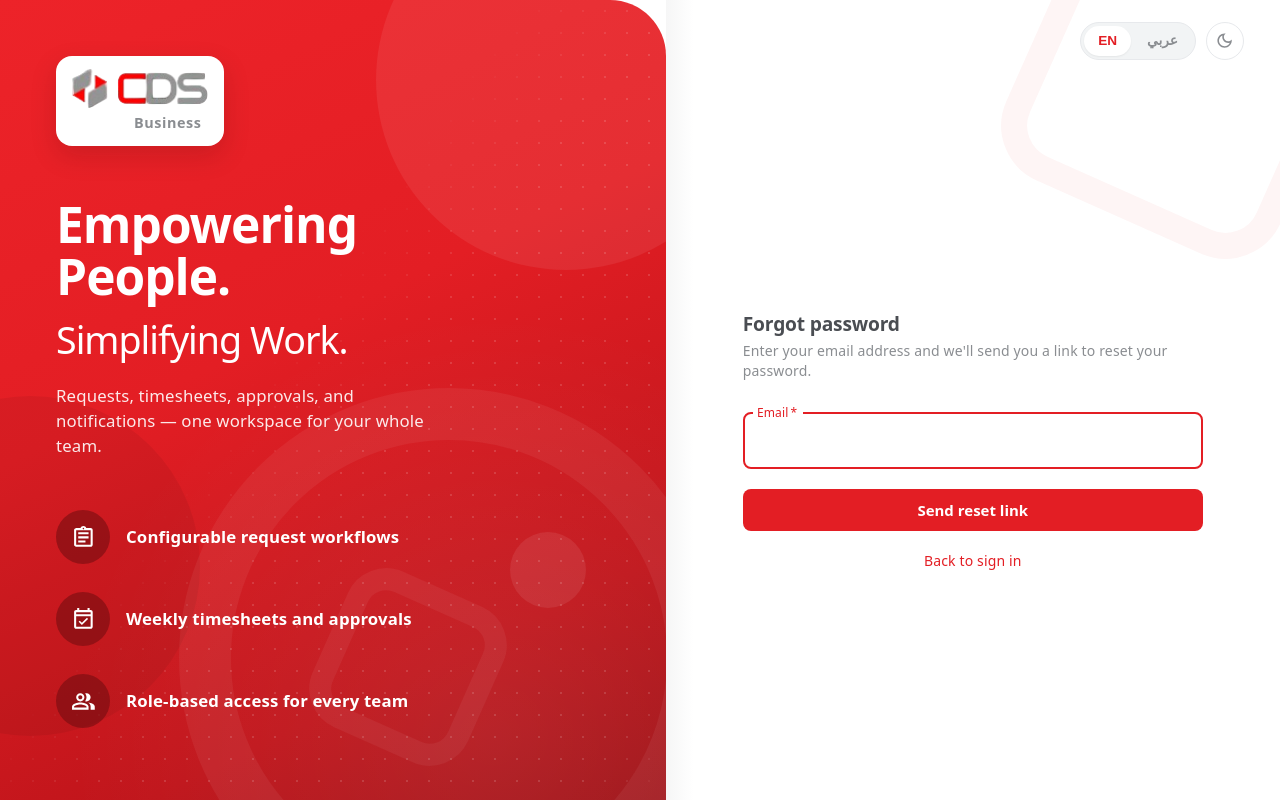
it: forgot password › validates email before submitting
Type "nope" into the field labelled "Email *".
click(973, 441); type("nope")  # box x1=743 y1=413 x2=1203 y2=469
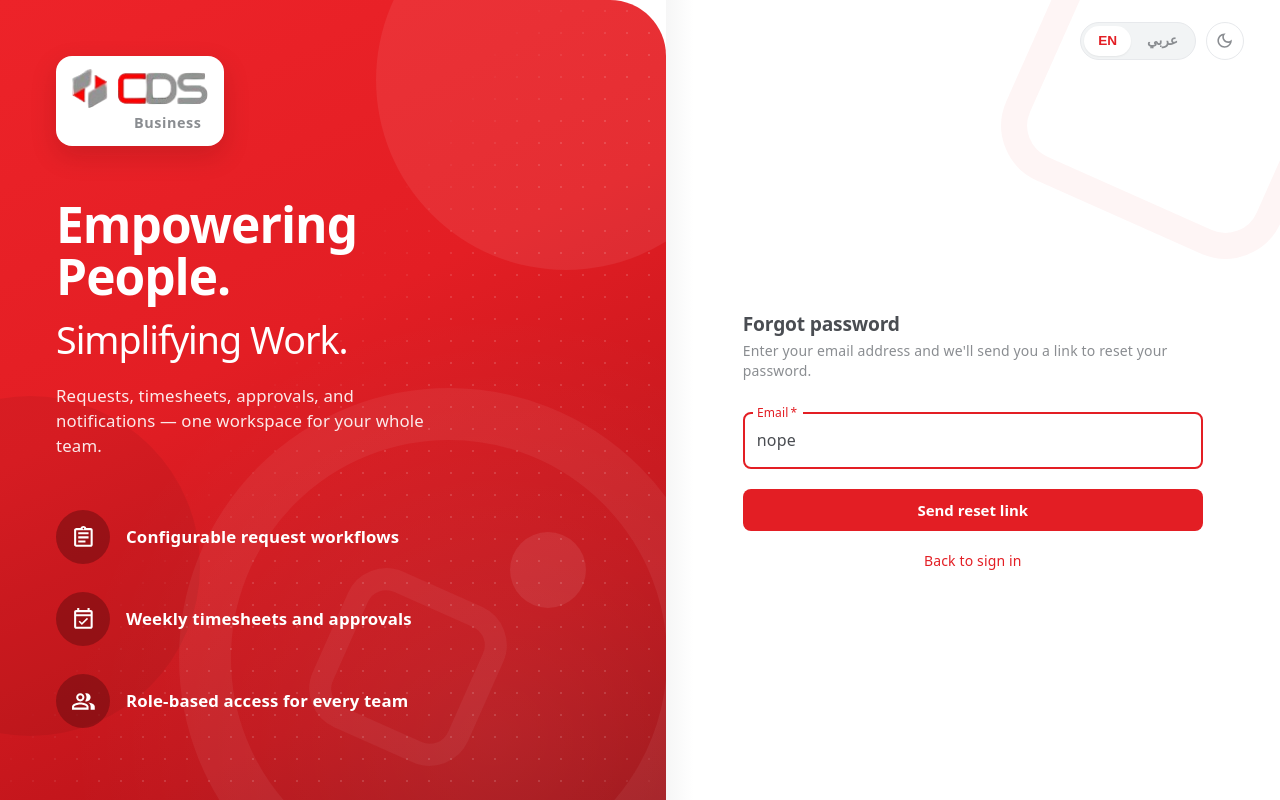
Click the button "Send reset link".
click(973, 510)  # box x1=743 y1=489 x2=1203 y2=531
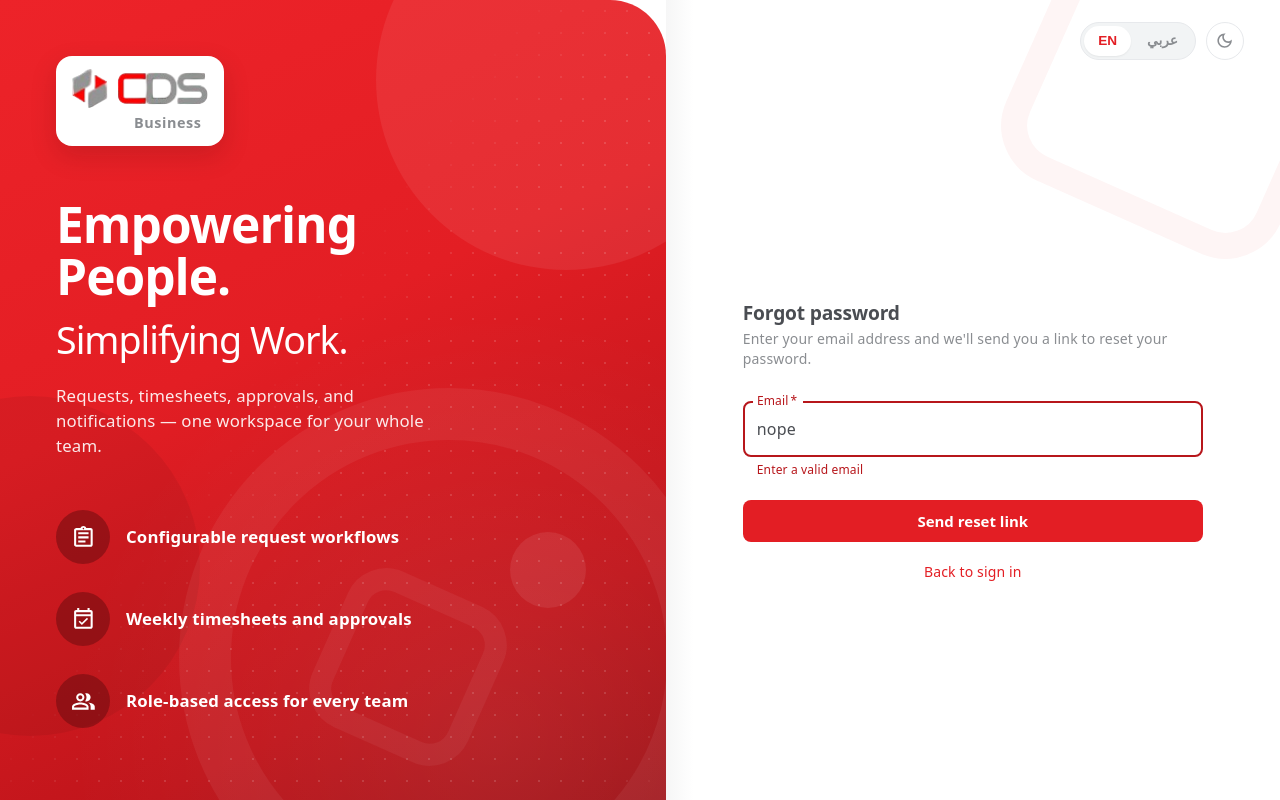
Check: the text "Enter a valid email" is shown, box x1=757 y1=461 x2=863 y2=478
